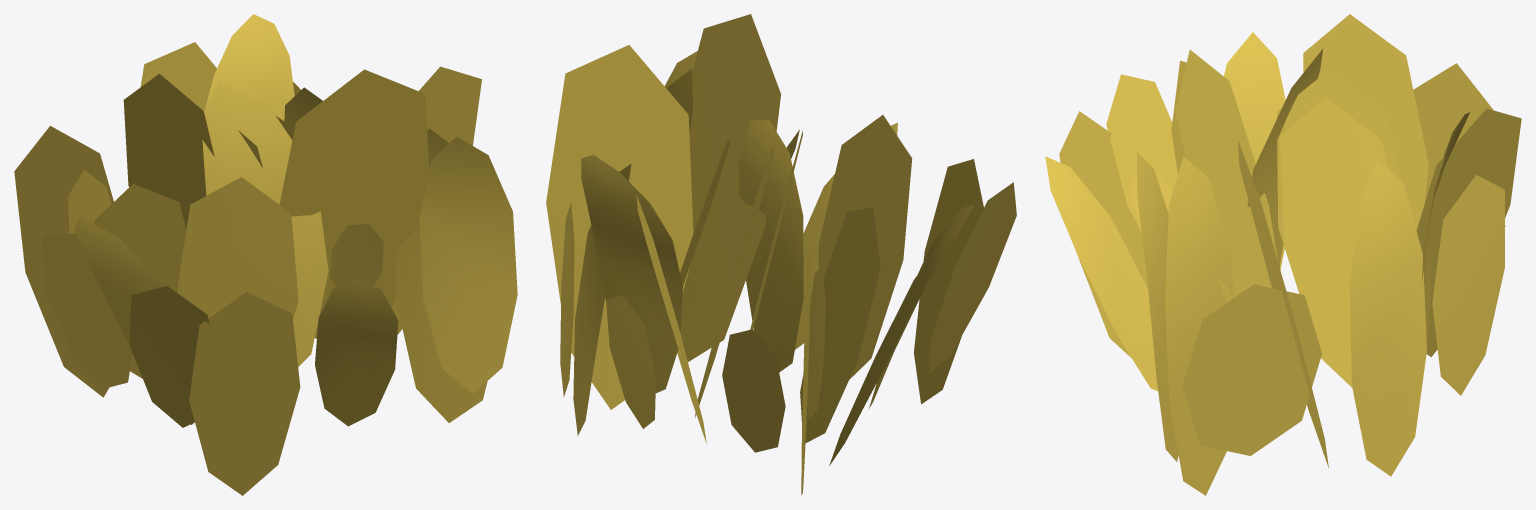
File: suketfahmi2.fbx
3 renders of one model, left to right at view 1: azimuth 30°, elevation 25°; view 2: azimuth 150°, elevation 25°; view 3: azimuth 270°, elevation 25°, orthographic. The views are drawn at different scales.
Parts seen in each view (by area): view 1: ML_5v5_low_zdgrass_01_32; view 2: ML_5v5_low_zdgrass_01_32; view 3: ML_5v5_low_zdgrass_01_32.
Part boxes in pixels (x1=…): ML_5v5_low_zdgrass_01_32: x1=14, y1=14, x2=517, y2=495; ML_5v5_low_zdgrass_01_32: x1=546, y1=14, x2=1016, y2=495; ML_5v5_low_zdgrass_01_32: x1=1045, y1=14, x2=1521, y2=495.
Size of the model in its own units: 2.51 by 2.25 by 2.43.
